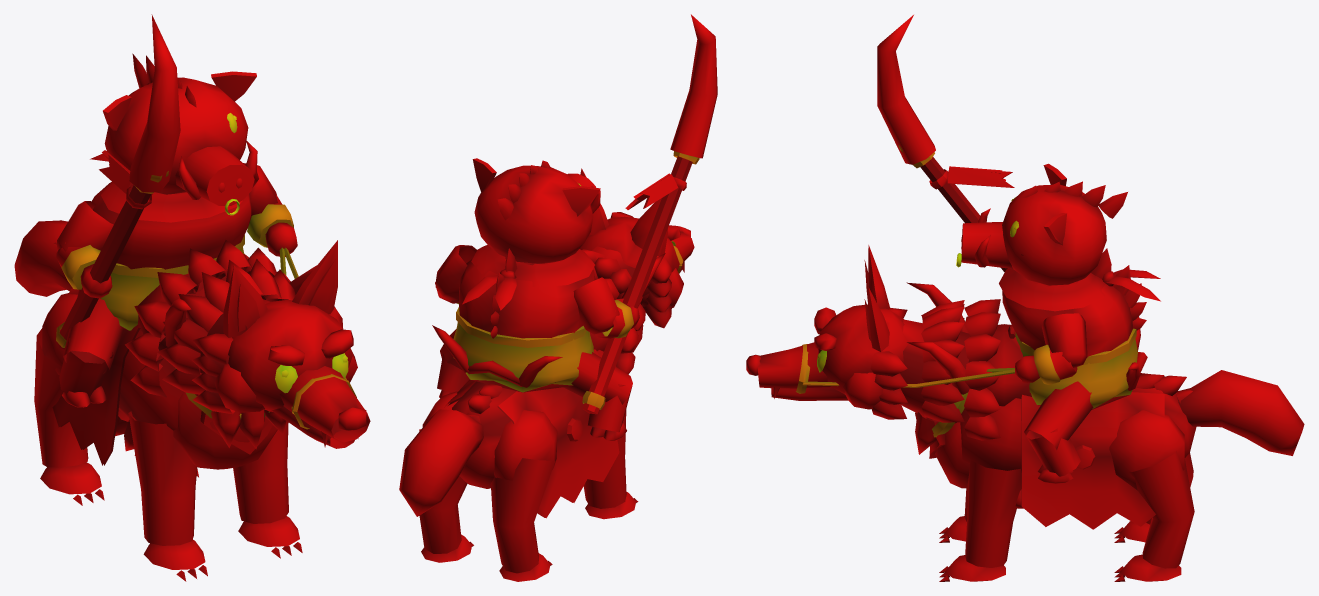
Rendered from BeastmanWolfRider.glb.
The picture shows the model from 3 angles, left to right: view 1: azimuth 30°, elevation 25°; view 2: azimuth 150°, elevation 25°; view 3: azimuth 270°, elevation 25°; orthographic projection. The views are drawn at different scales.
Visible parts, largest first — view 1: BeastmanWolfRider; view 2: BeastmanWolfRider; view 3: BeastmanWolfRider.
Boxes of the visible parts, x1,y1,x2,y2 form: BeastmanWolfRider: [14, 14, 370, 581]; BeastmanWolfRider: [399, 14, 717, 581]; BeastmanWolfRider: [746, 15, 1304, 581].
Size of the model in its own units: 0.6552 by 1.55 by 1.57.
